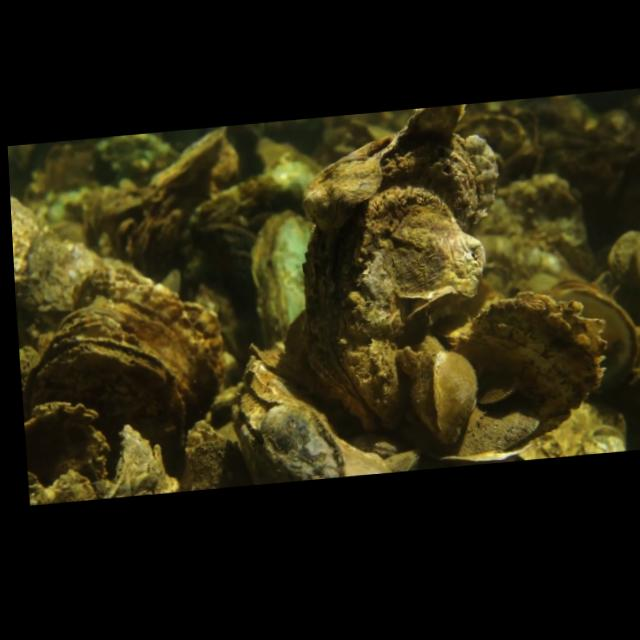Oyster-Closed: (300, 103, 502, 435), (21, 331, 190, 495), (446, 289, 609, 446), (241, 342, 367, 445), (249, 206, 312, 367), (411, 335, 478, 445), (424, 403, 543, 461), (228, 393, 295, 483)
Oyster-Indeterminate: (50, 260, 223, 428), (256, 403, 347, 480), (476, 373, 524, 405)
